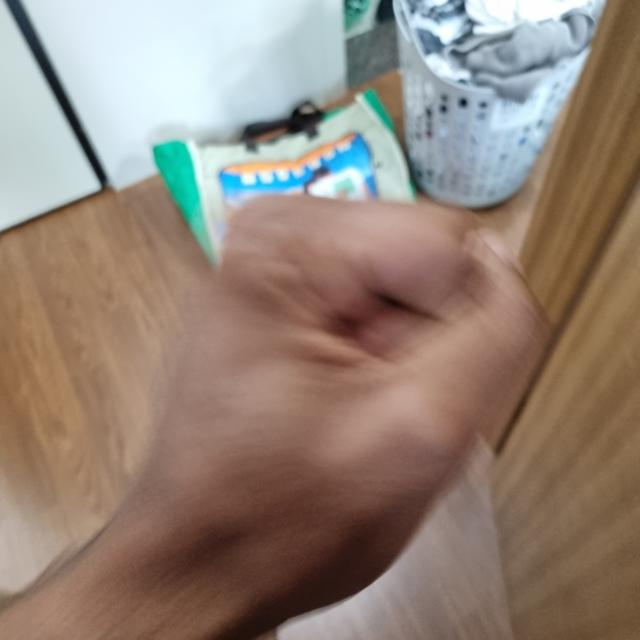Rock: (135, 193, 545, 623)
